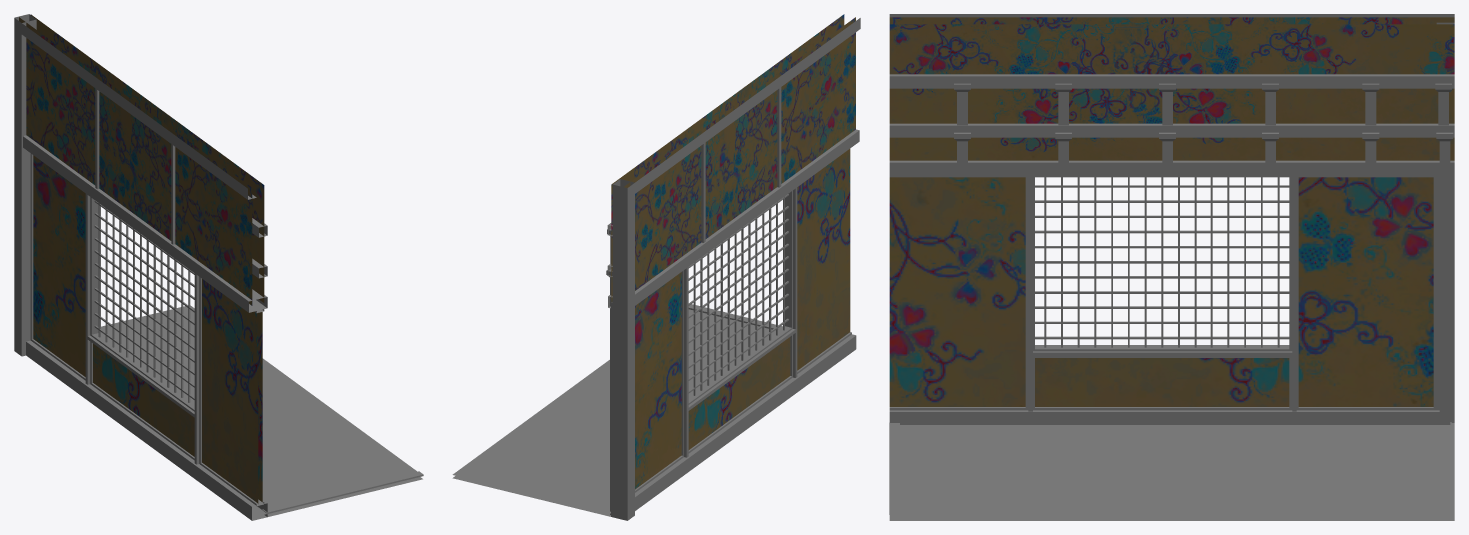
Rendered from FL3_Exterior_Wals.fbx.
3 renders of one model, left to right at view 1: azimuth 30°, elevation 25°; view 2: azimuth 150°, elevation 25°; view 3: azimuth 270°, elevation 25°, orthographic. The views are drawn at different scales.
Parts seen in each view (by area): view 1: FL3_Exterior_Wals; view 2: FL3_Exterior_Wals; view 3: FL3_Exterior_Wals.
Part boxes in pixels (box(x1,y1,x2,y2)): FL3_Exterior_Wals: box(14, 14, 423, 520); FL3_Exterior_Wals: box(452, 14, 860, 520); FL3_Exterior_Wals: box(889, 14, 1454, 520).
Bounding box in the file's own units: 221 × 401 × 509.
